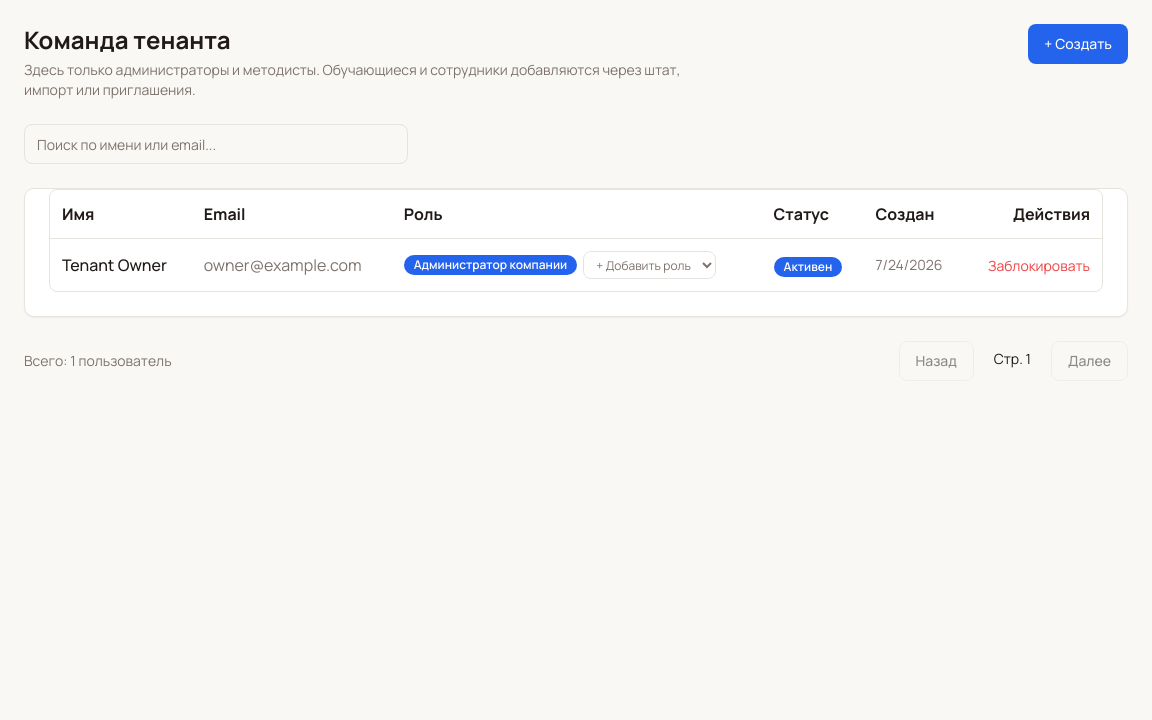
tenant team modal › offers an explicit close control instead of relying on the backdrop
Expected: the text "owner@example.com" is shown, 192,238 -> 392,291
What coordinates should you click on to do the following:
click the button "+ Создать"
I would click on:
 (1078, 44)
Its box is 1028,24 -> 1128,64.
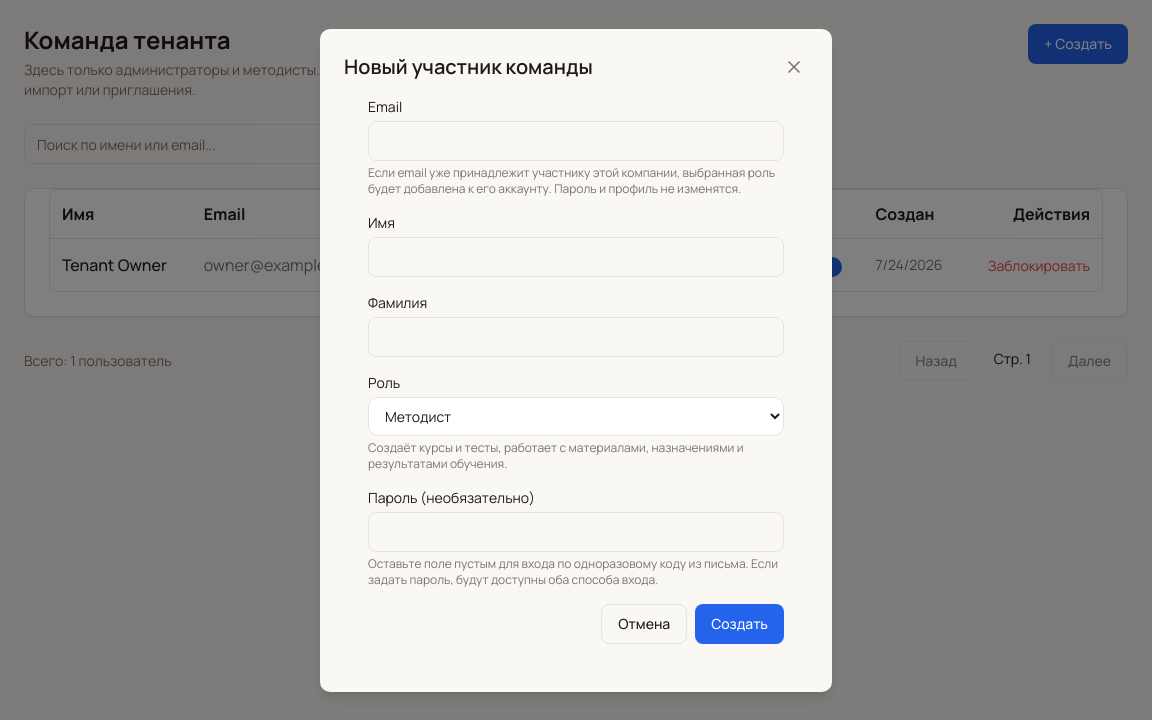
Expected: the dialog "Новый участник команды" is shown, 320,28 -> 832,692
What coordinates should you click on to do the following:
click the button named "закрыть"
I would click on:
 (794, 66)
Its box is 780,52 -> 808,80.
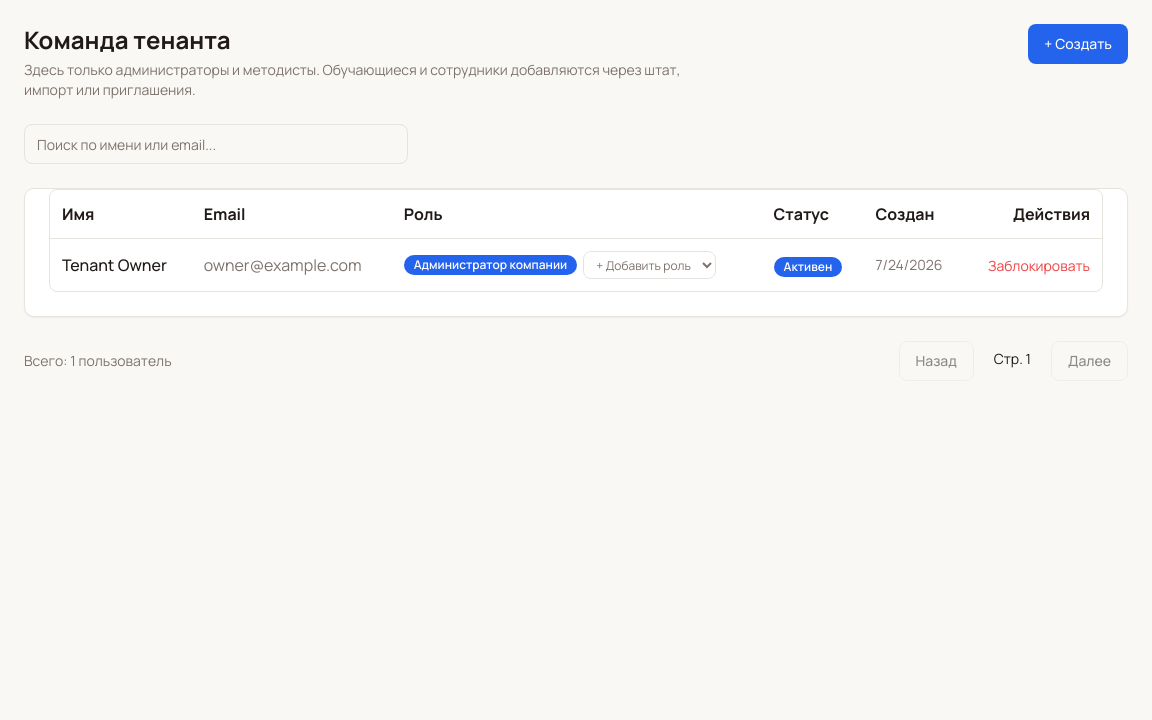
Expected: the dialog is gone
